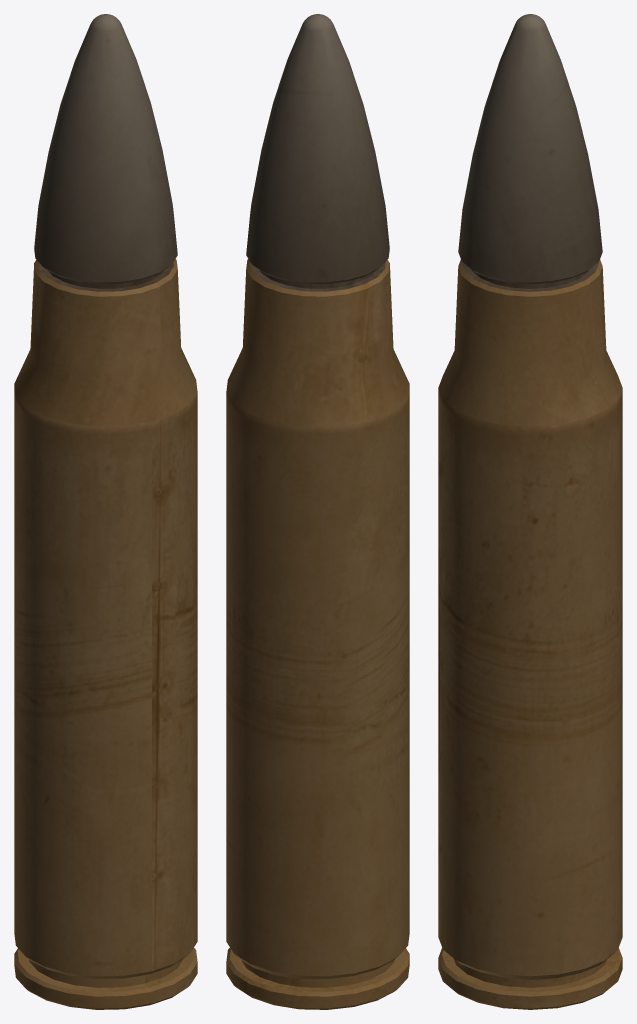
The model's file is Bullet.dae.
3 renders of one model, left to right at view 1: azimuth 30°, elevation 25°; view 2: azimuth 150°, elevation 25°; view 3: azimuth 270°, elevation 25°, orthographic.
Visible parts, largest first — view 1: Bullet_pCylinder1; view 2: Bullet_pCylinder1; view 3: Bullet_pCylinder1.
Boxes of the visible parts, x1,y1,x2,y2 form: Bullet_pCylinder1: (14,14,197,1009); Bullet_pCylinder1: (226,14,409,1009); Bullet_pCylinder1: (438,14,622,1009).
Bounding box in the file's own units: 0.8762 × 0.8762 × 5.02.
Materials: 1 (1 with a texture image).
